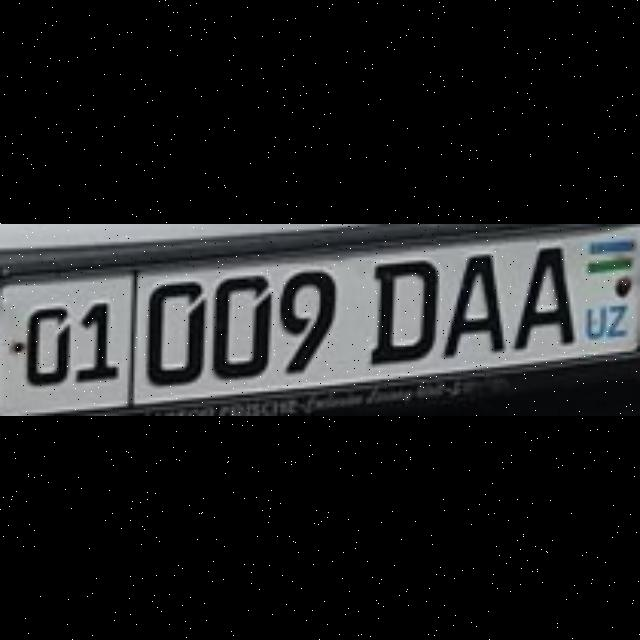0: (140, 278, 204, 386), (208, 273, 268, 377), (21, 303, 70, 385)
1: (72, 300, 116, 380)
9: (274, 266, 336, 370)
A: (509, 246, 573, 346), (442, 251, 502, 355)
D: (366, 258, 436, 364)
